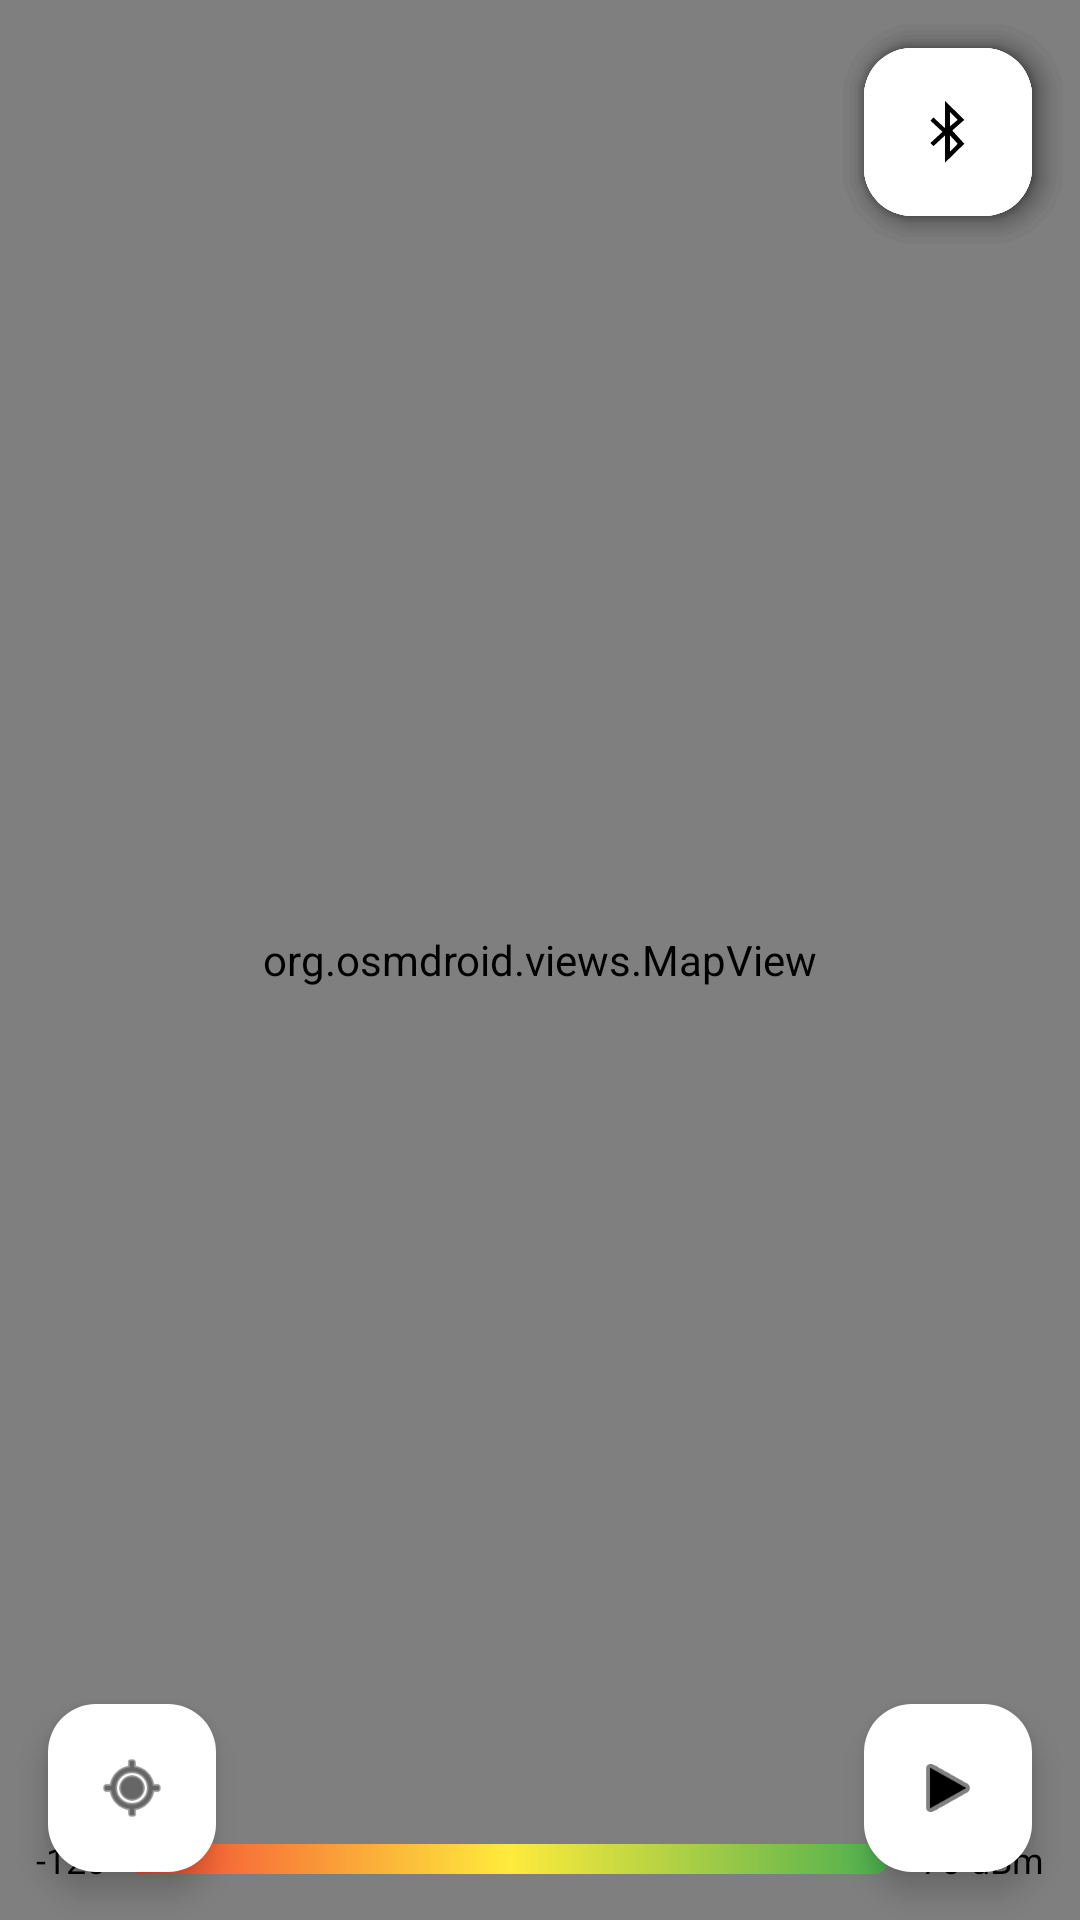

Icons on this 1080w x 1920h Android screen, each with the point to tap as (x,y):
mylocation: (132,1788)
play: (948,1788)
